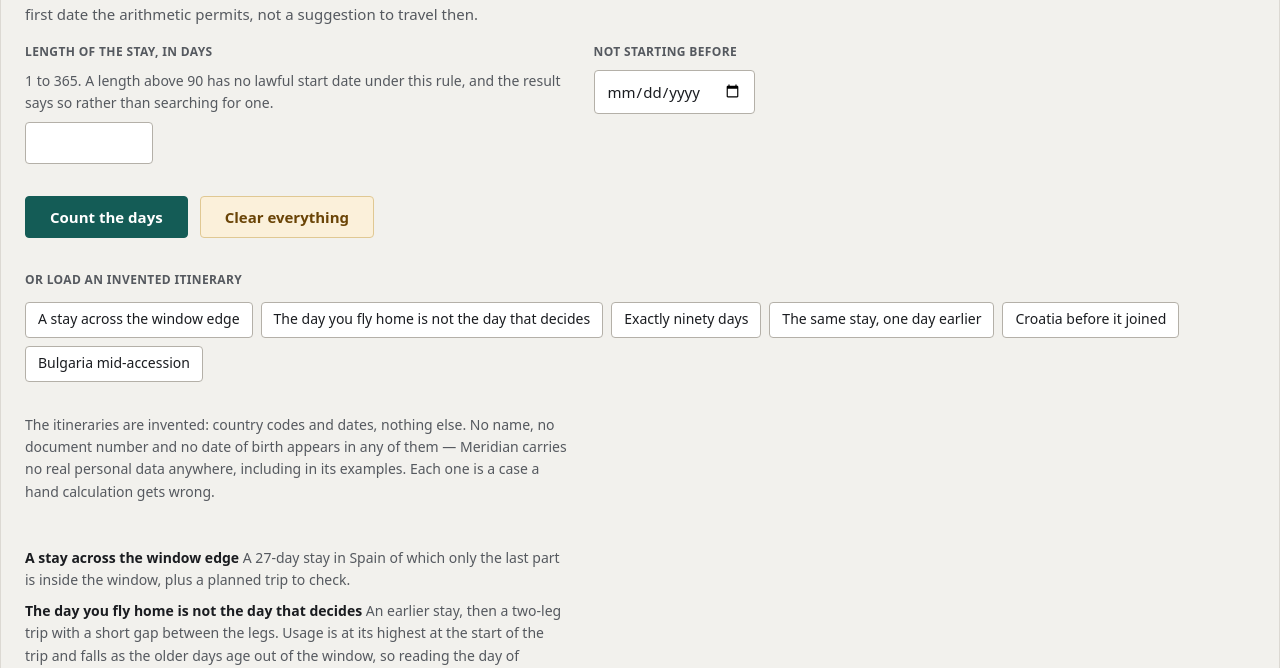
Test case: the count against the 90 days › says where every uncharged day went
(page scrolled)
Click the button "A stay across the window edge". click: (139, 320)
box: top-left (25, 302), bottom-right (252, 338)
(page scrolled)
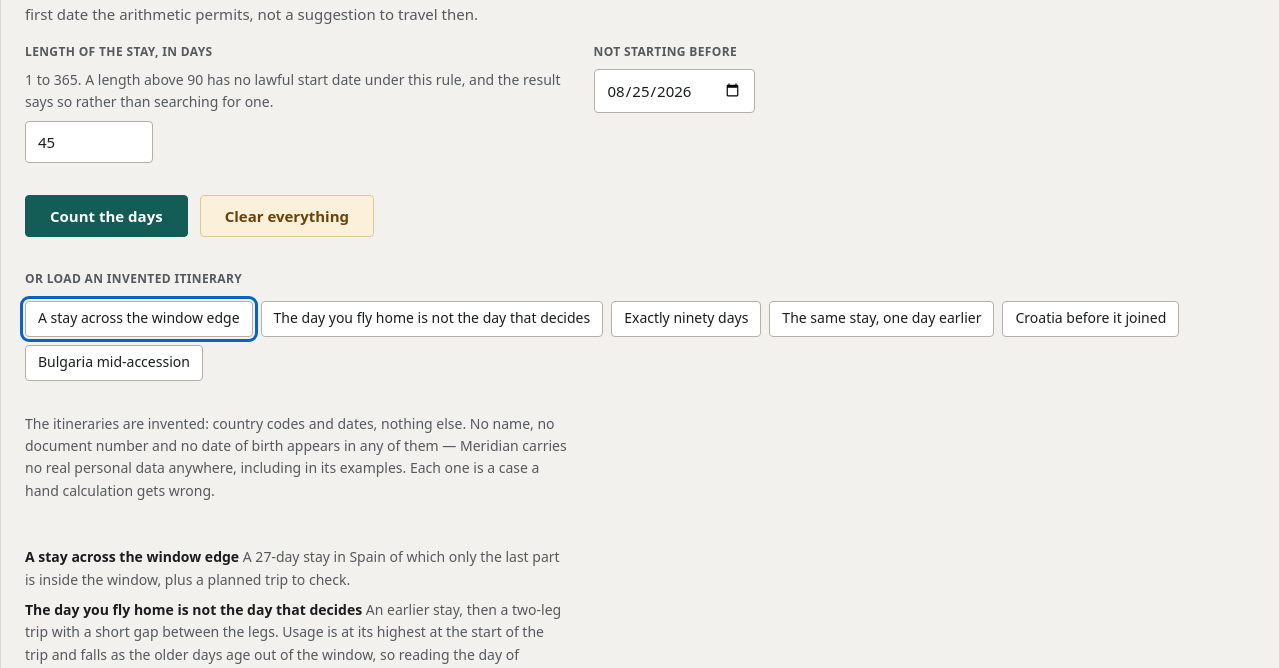
Click the button "Count the days". click: (106, 216)
box: top-left (25, 196), bottom-right (188, 238)
(page scrolled)
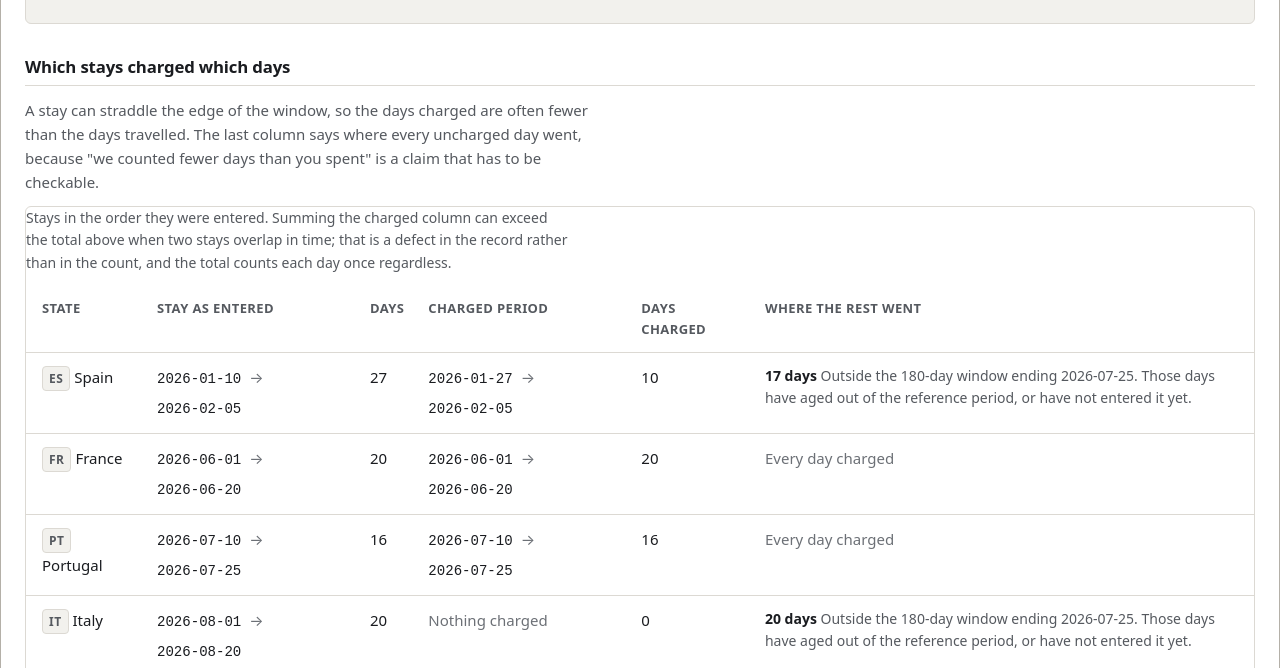
Result: the list item "Outside the 180-day window" is shown at top-left (765, 366), bottom-right (1215, 407)
Result: the column heading "Where the rest went" is shown at top-left (753, 286), bottom-right (1254, 352)
